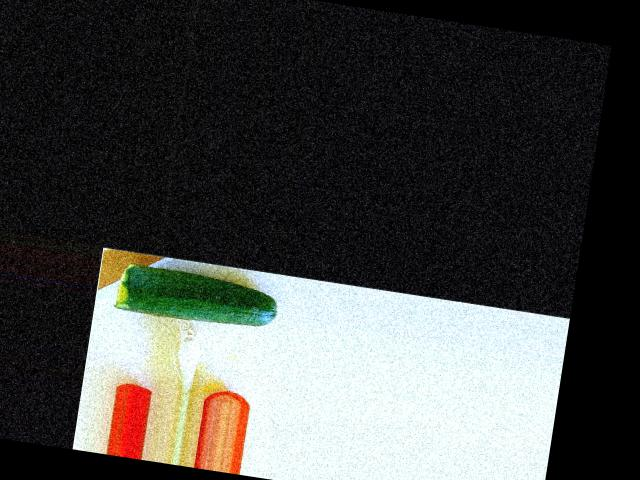cucumber: (113, 261, 282, 332)
